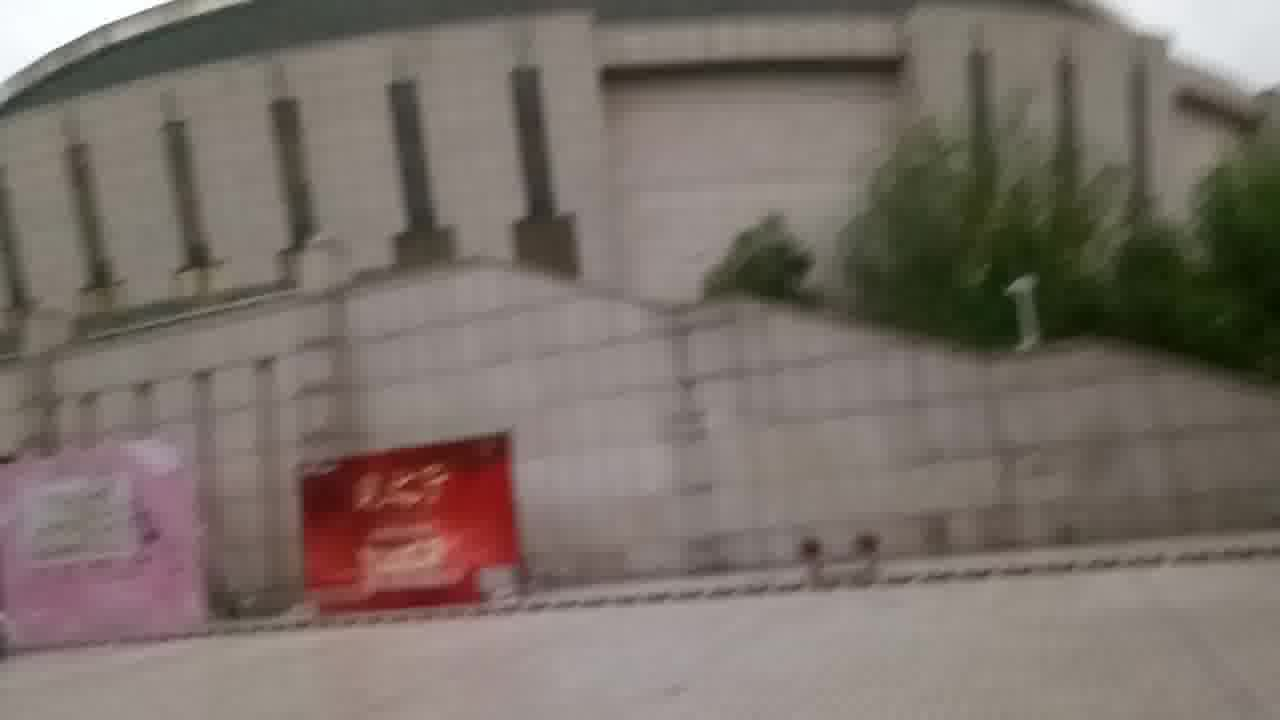zhongtiww: (5, 6, 1280, 624)
